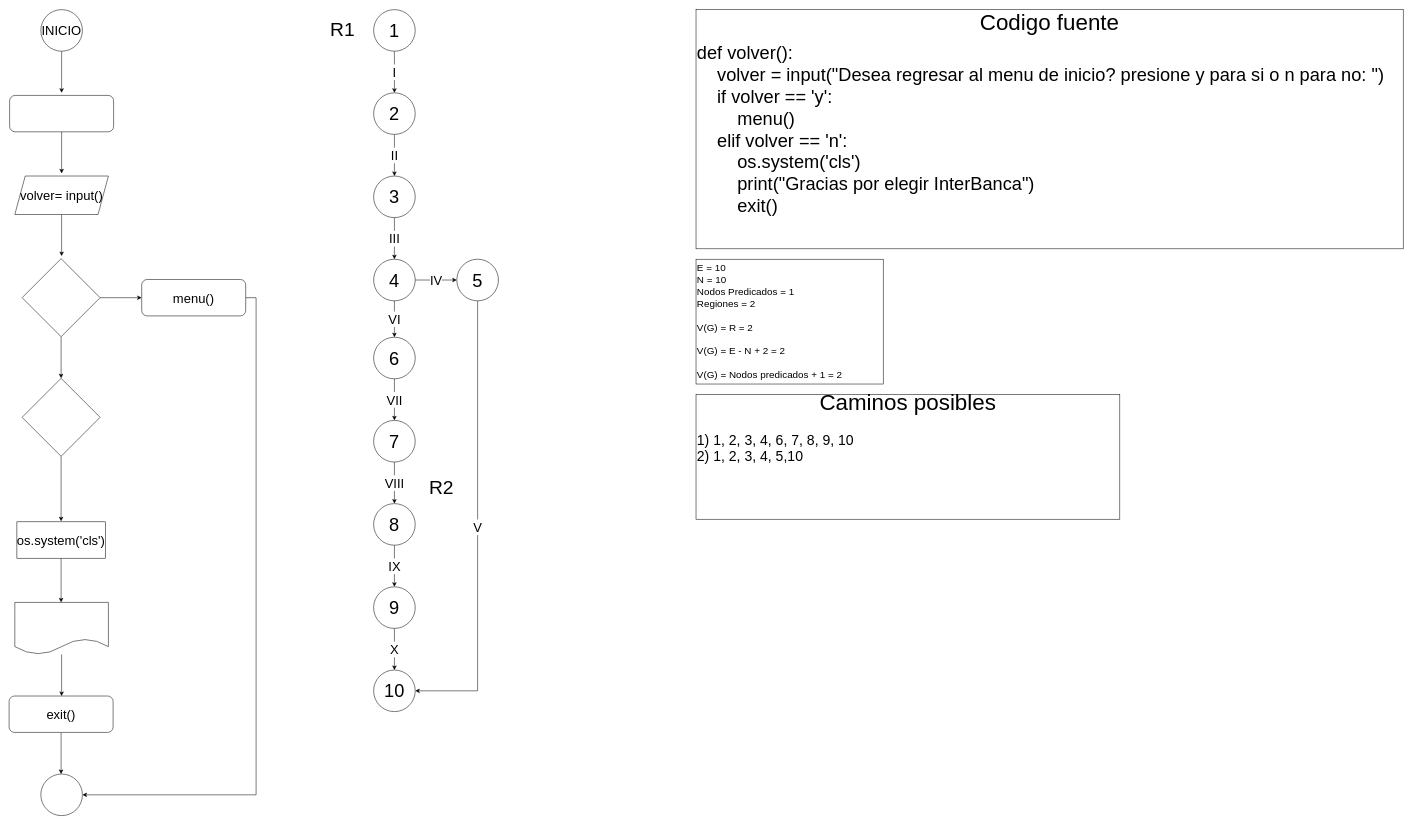
This 1412x825 diagram has some shape labels left out. Each missing label, with the centre of its shape:
def volver(): (x=61, y=113)
elif volver == 'n': (x=61, y=417)
FIN: (x=61, y=795)
if volver == 'y': (x=61, y=297)
print("gracias..."): (x=61, y=628)
